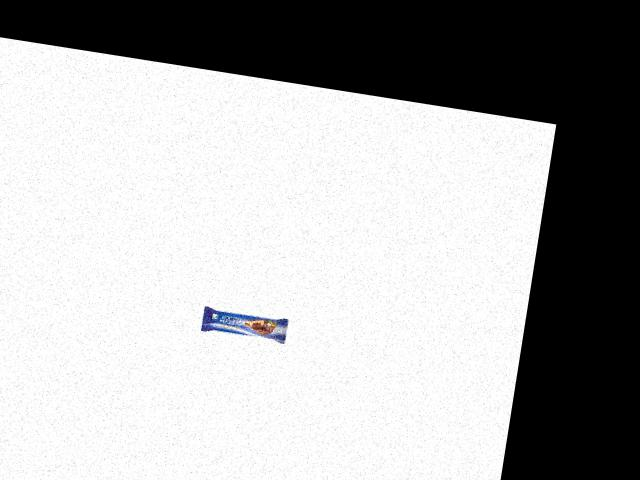chocolate: (198, 297, 301, 347)
